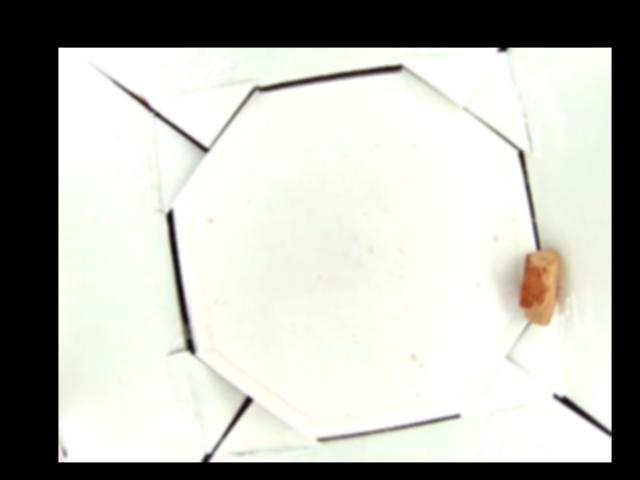Brisk: (518, 249, 562, 326)
